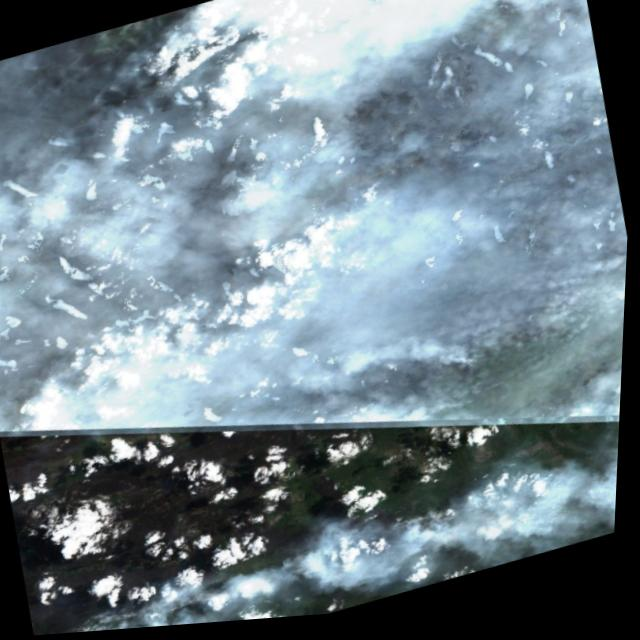fire: (122, 23, 229, 99), (65, 609, 137, 635)
